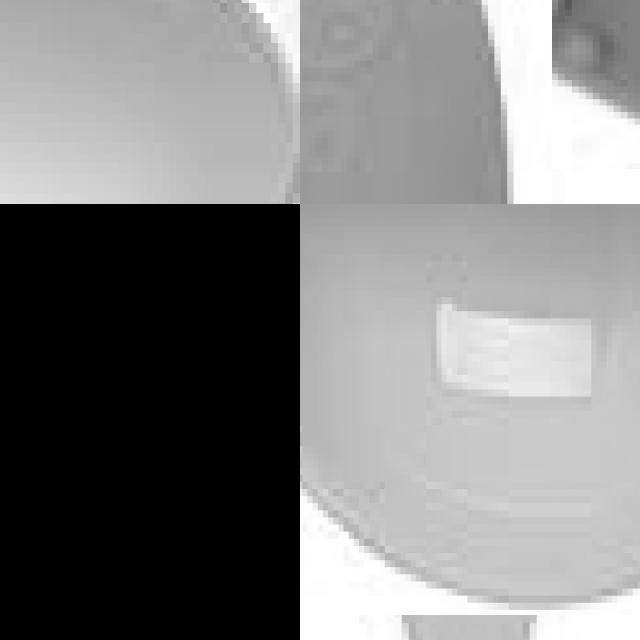spoons: (300, 204, 640, 598), (0, 0, 300, 204)
